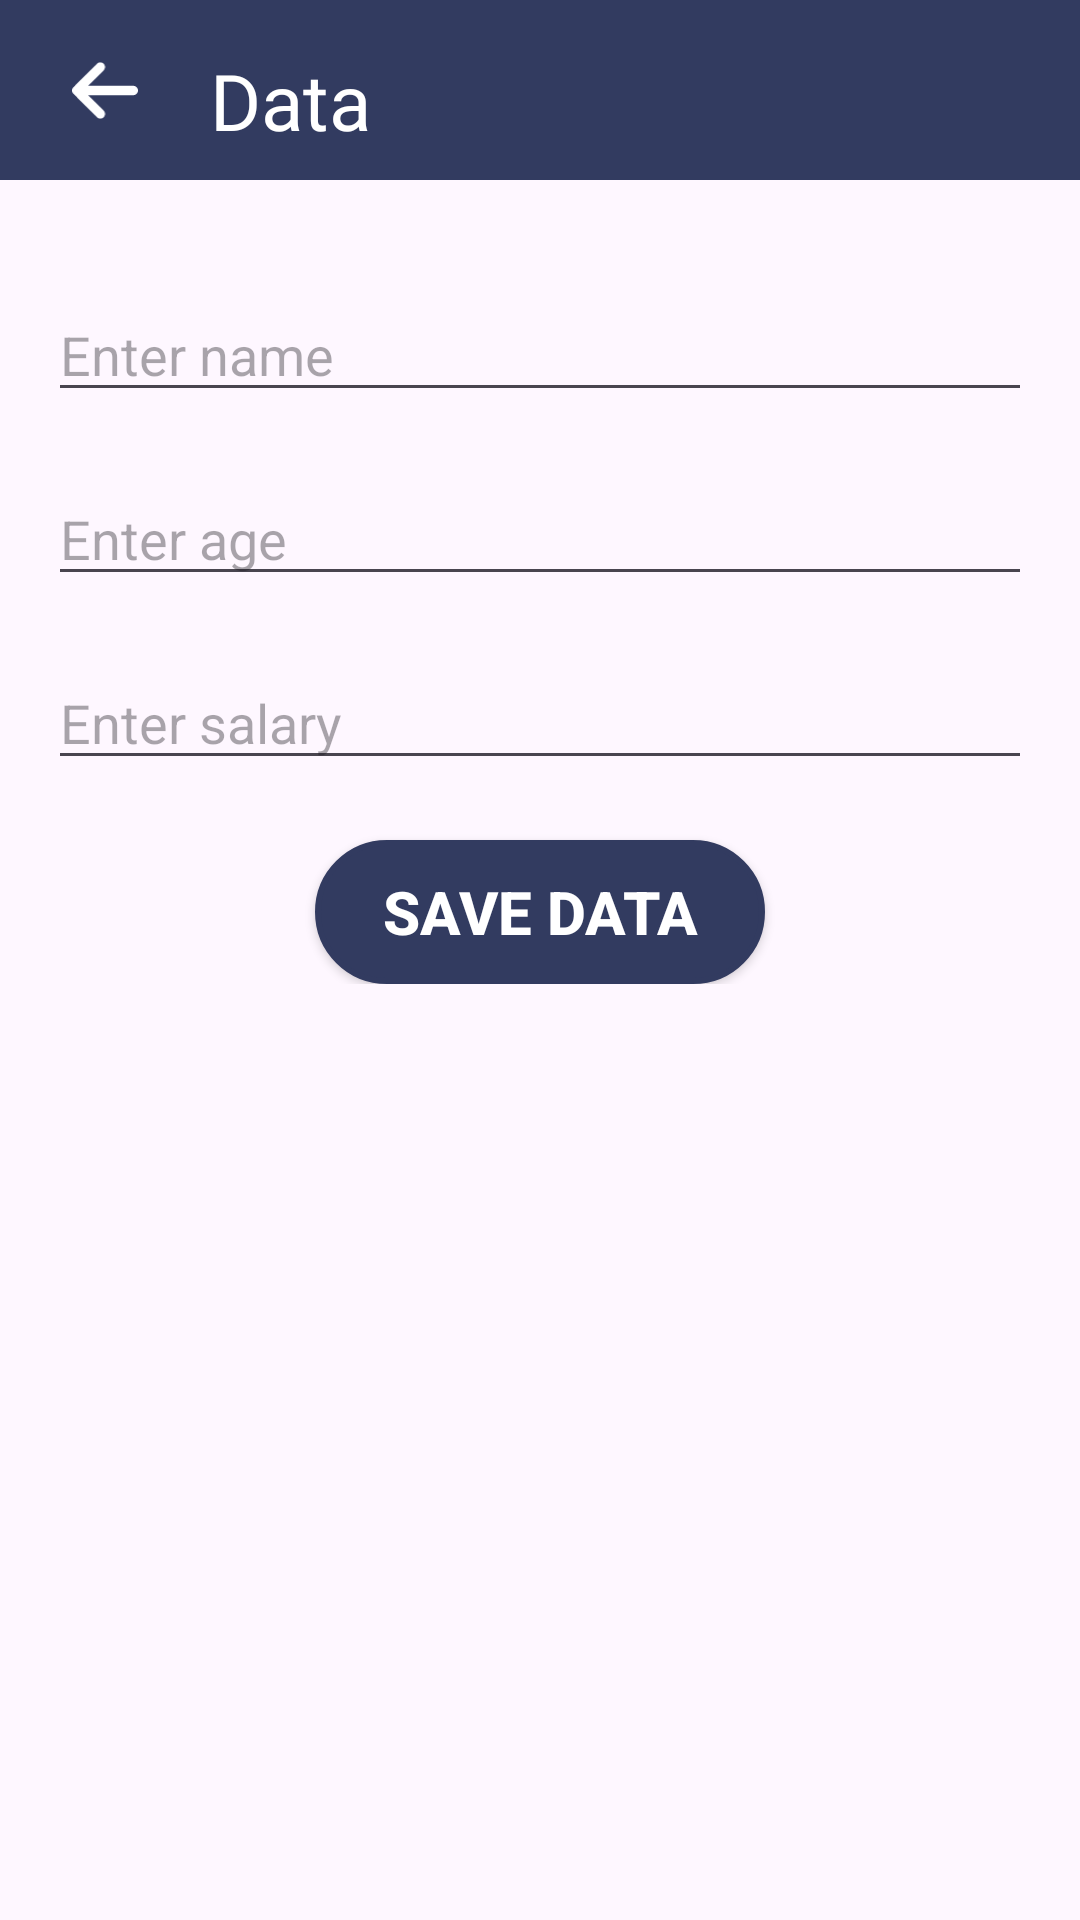

Icon click points for this 1080px x 1920px phone screenshot, format (x,y):
arrow left: (105,90)
